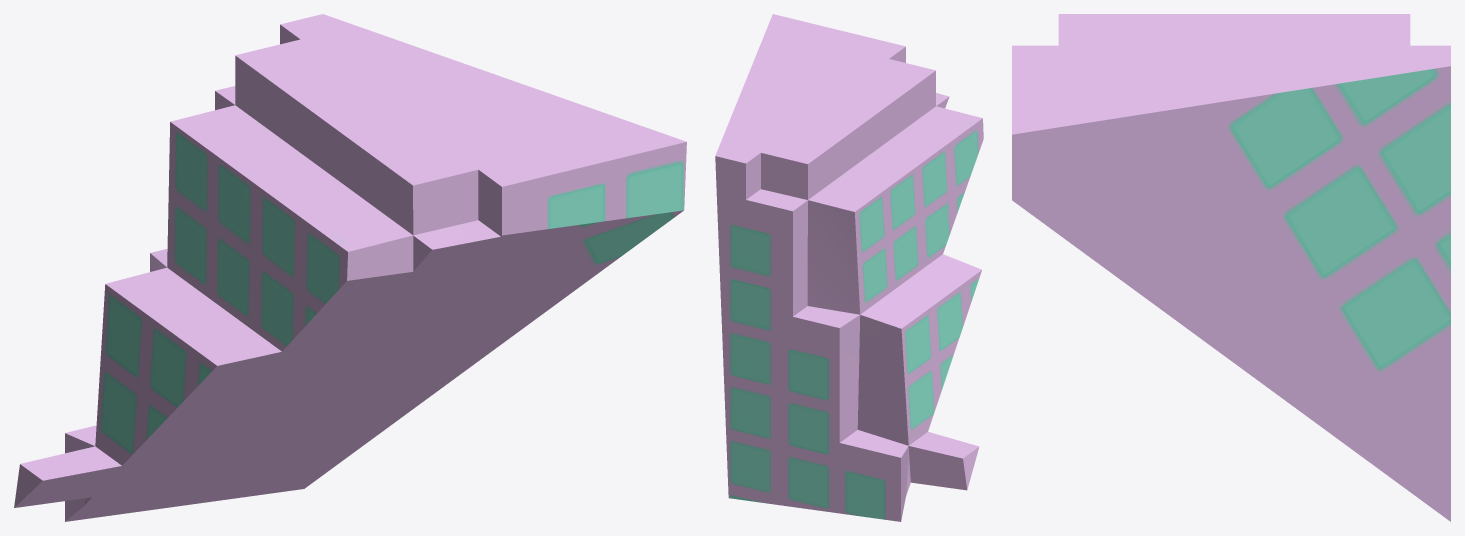
The model's file is r1Shard4.fbx.
3 renders of one model, left to right at view 1: azimuth 30°, elevation 25°; view 2: azimuth 150°, elevation 25°; view 3: azimuth 270°, elevation 25°, orthographic. The views are drawn at different scales.
Visible parts, largest first — view 1: shard77; view 2: shard77; view 3: shard77.
Part boxes in pixels (x1,y1,x2,y2): shard77: (14, 14, 686, 521); shard77: (715, 14, 983, 521); shard77: (1012, 14, 1450, 521).
Size of the model in its own units: 0.1089 by 0.1038 by 0.0888.
1 material, 1 textured.
